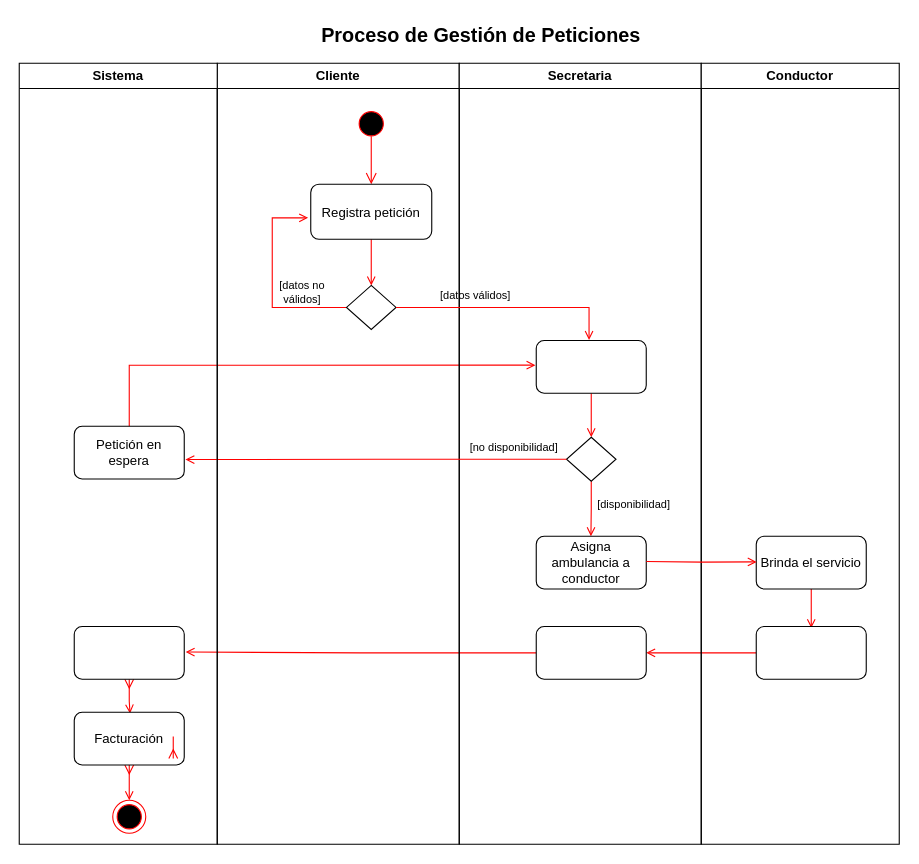
Image size: 919x864. Some labels were removed from this diagram. Each missing label, with the box of its shape:
Almacena datos del servicio: (73, 625, 184, 679)
Modifica el estado de ambulancia y conductor: (535, 625, 646, 679)
Revisa petición: (535, 339, 646, 393)
Servicio culminado: (755, 625, 866, 679)
